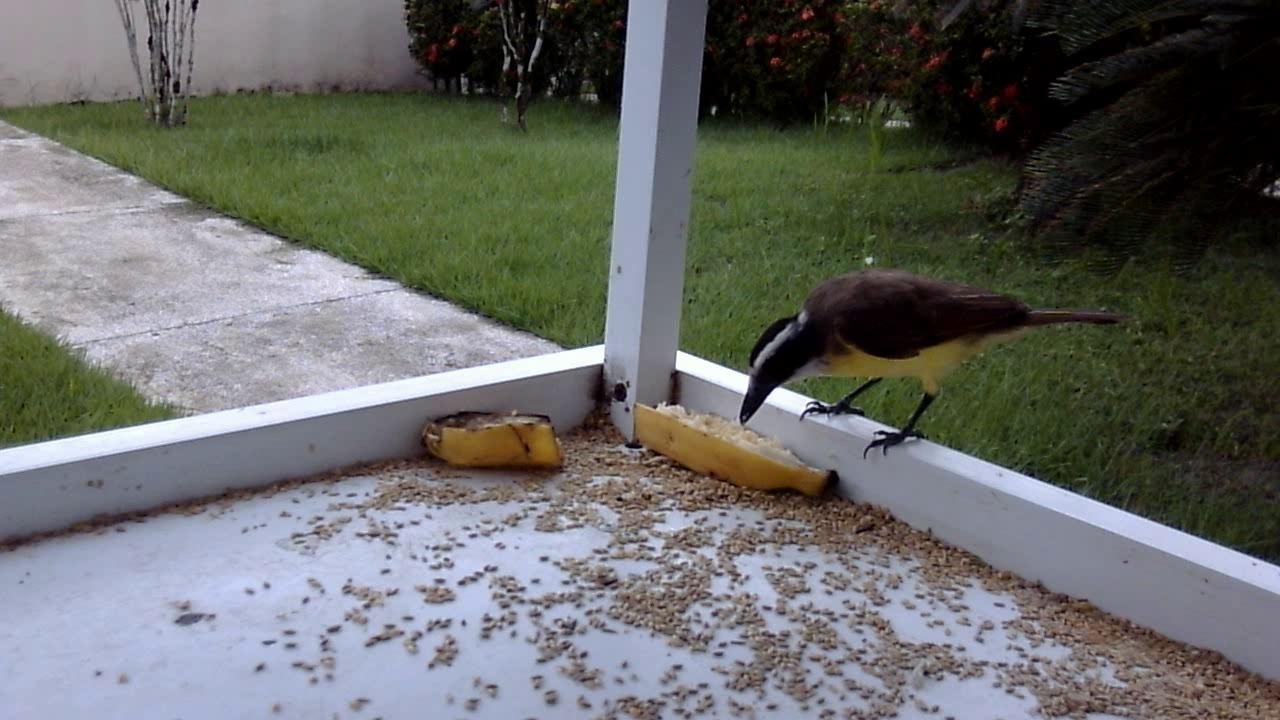bem_te_vi: (725, 242, 1134, 490)
